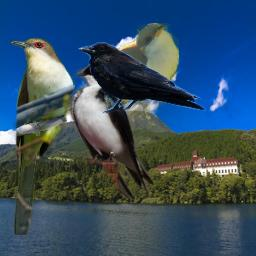Crow: (77, 42, 206, 114)
Cuckoo: (22, 23, 179, 135), (9, 37, 76, 235)
Swallow: (69, 60, 154, 198)
